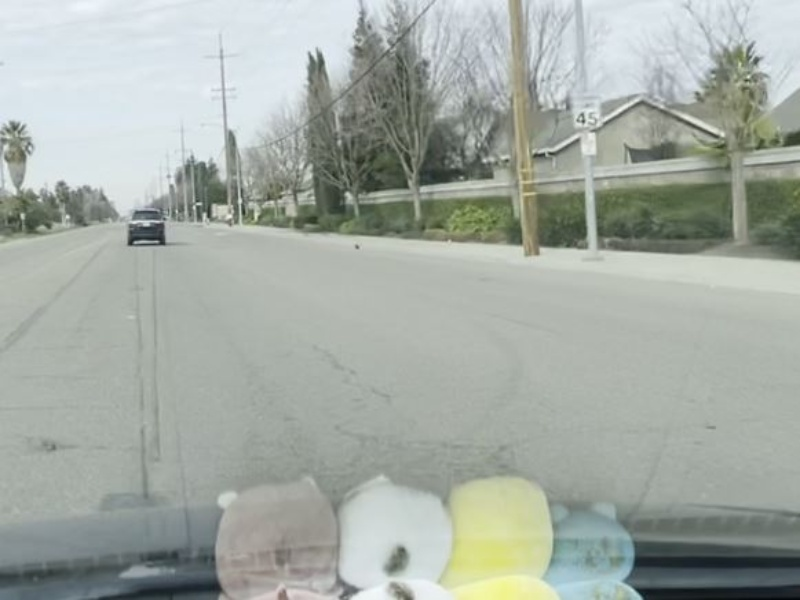speed limit sign: (566, 89, 603, 131)
